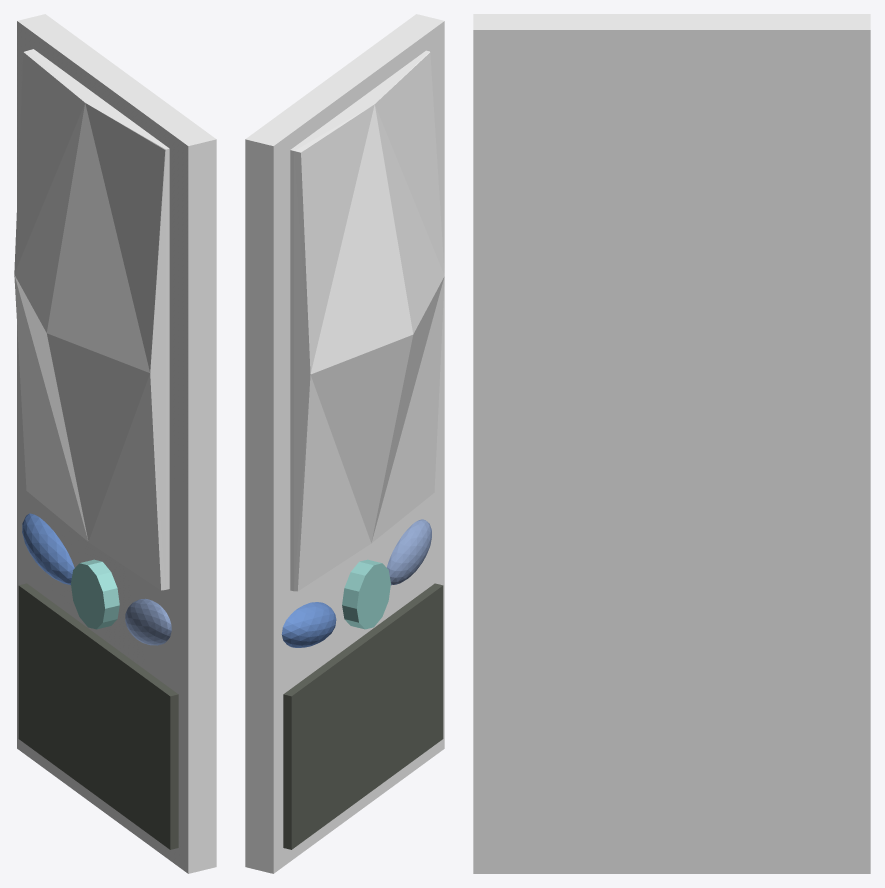
Rendered from yuanj1.dae.
The picture shows the model from 3 angles, left to right: view 1: azimuth 30°, elevation 25°; view 2: azimuth 150°, elevation 25°; view 3: azimuth 270°, elevation 25°; orthographic projection. The views are drawn at different scales.
Visible parts, largest first — view 1: Cube-S3D-14-FLIPPED-SMOOTHED, Cube-S3D-13-SMOOTHED, Cube-S3D-18-FLIPPED-SMOOTHED, Cylinder-S3D-15-SMOOTHED, Sphere-S3D-16-SMOOTHED, Sphere-S3D-17-SMOOTHED; view 2: Cube-S3D-14-FLIPPED-SMOOTHED, Cube-S3D-13-SMOOTHED, Cube-S3D-18-FLIPPED-SMOOTHED, Cylinder-S3D-15-SMOOTHED, Sphere-S3D-16-SMOOTHED, Sphere-S3D-17-SMOOTHED; view 3: Cube-S3D-13-SMOOTHED.
Part boxes in pixels (left/top/right/bottom): Cube-S3D-14-FLIPPED-SMOOTHED: left=14, top=49, right=169, bottom=590; Cube-S3D-13-SMOOTHED: left=17, top=14, right=216, bottom=873; Cube-S3D-18-FLIPPED-SMOOTHED: left=18, top=583, right=178, bottom=849; Cylinder-S3D-15-SMOOTHED: left=71, top=559, right=119, bottom=629; Sphere-S3D-16-SMOOTHED: left=22, top=513, right=74, bottom=584; Sphere-S3D-17-SMOOTHED: left=125, top=598, right=171, bottom=645; Cube-S3D-14-FLIPPED-SMOOTHED: left=290, top=50, right=444, bottom=591; Cube-S3D-13-SMOOTHED: left=245, top=14, right=444, bottom=873; Cube-S3D-18-FLIPPED-SMOOTHED: left=283, top=583, right=443, bottom=849; Cylinder-S3D-15-SMOOTHED: left=342, top=559, right=390, bottom=629; Sphere-S3D-16-SMOOTHED: left=281, top=602, right=336, bottom=647; Sphere-S3D-17-SMOOTHED: left=386, top=519, right=431, bottom=585; Cube-S3D-13-SMOOTHED: left=473, top=14, right=870, bottom=873.
Size of the model in its own units: 0.2812 by 2.34 by 1.
